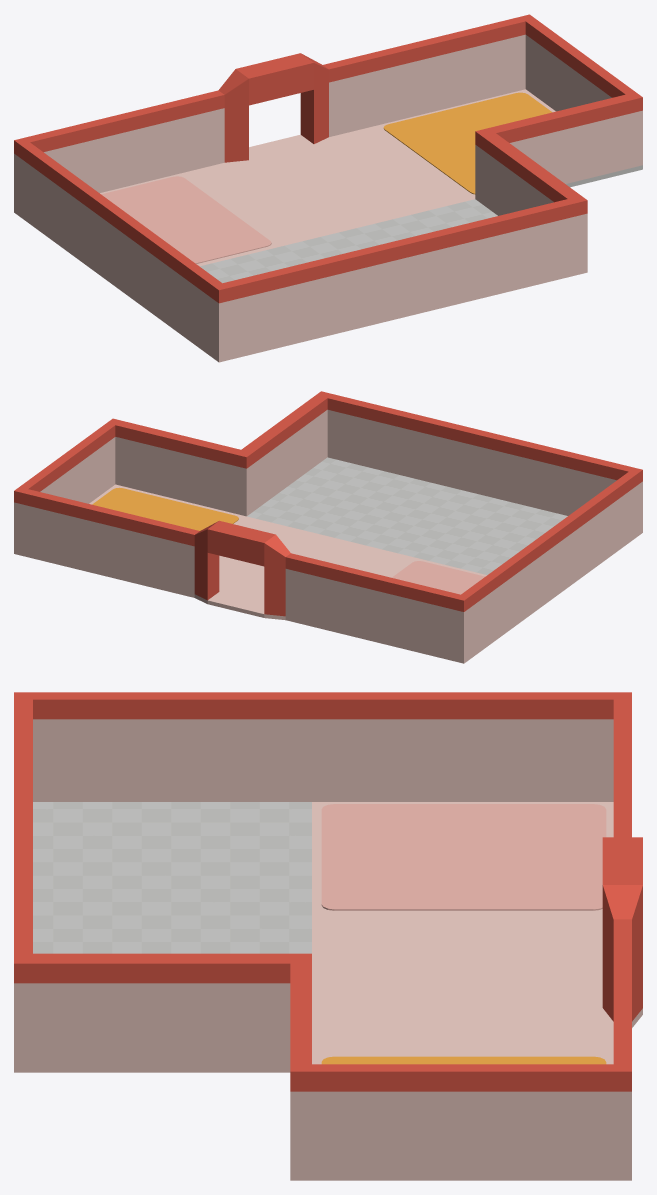
File: Map_Idle.fbx
3 renders of one model, top to bottom at view 1: azimuth 30°, elevation 25°; view 2: azimuth 150°, elevation 25°; view 3: azimuth 270°, elevation 25°, orthographic. The views are drawn at different scales.
Parts seen in each view (by area): view 1: Map_Idle; view 2: Map_Idle; view 3: Map_Idle.
Part boxes in pixels (x1,y1,x2,y2): Map_Idle: (14,14,642,362); Map_Idle: (14,391,642,663); Map_Idle: (14,692,642,1180).
Size of the model in its own units: 84 by 13.38 by 58.85.
